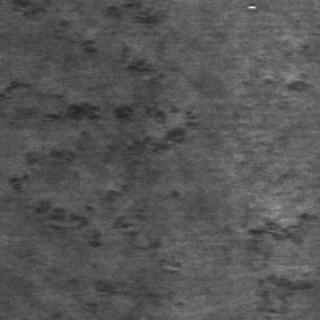rolled pit: (1, 53, 196, 171), (3, 133, 180, 259), (49, 2, 164, 82), (242, 205, 314, 315)
